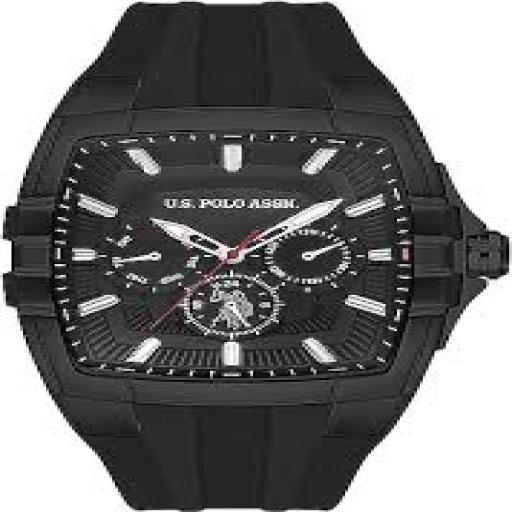KolSaati: (6, 1, 512, 512)
